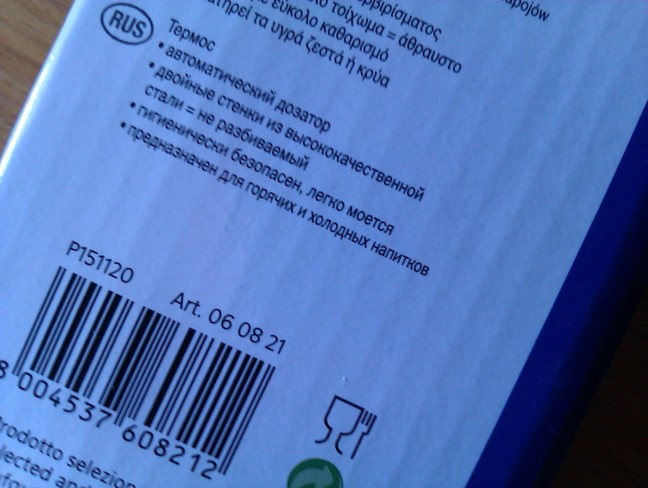detection: (4, 251, 289, 484)
